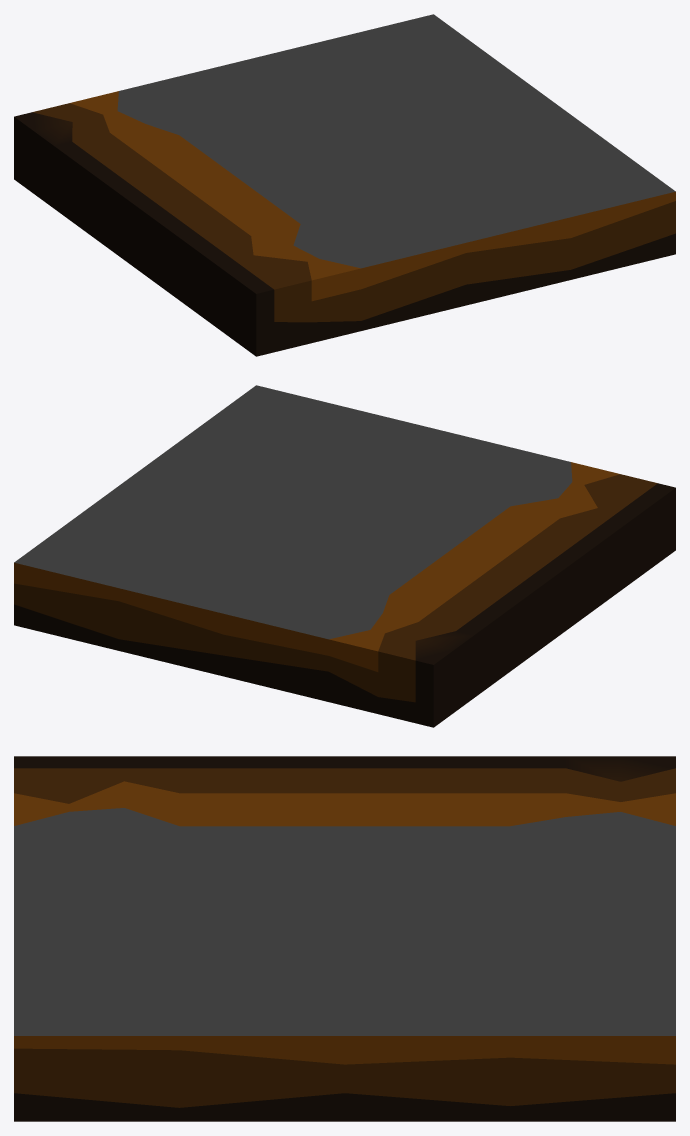
The model's file is SM_terrian_02.FBX.
3 renders of one model, top to bottom at view 1: azimuth 30°, elevation 25°; view 2: azimuth 150°, elevation 25°; view 3: azimuth 270°, elevation 25°, orthographic. The views are drawn at different scales.
Visible parts, largest first — view 1: terrian02; view 2: terrian02; view 3: terrian02.
Boxes of the visible parts, x1,y1,x2,y2 form: terrian02: [14, 14, 675, 356]; terrian02: [14, 385, 675, 727]; terrian02: [14, 756, 675, 1121].
Size of the model in its own units: 3500 by 500 by 3500.
